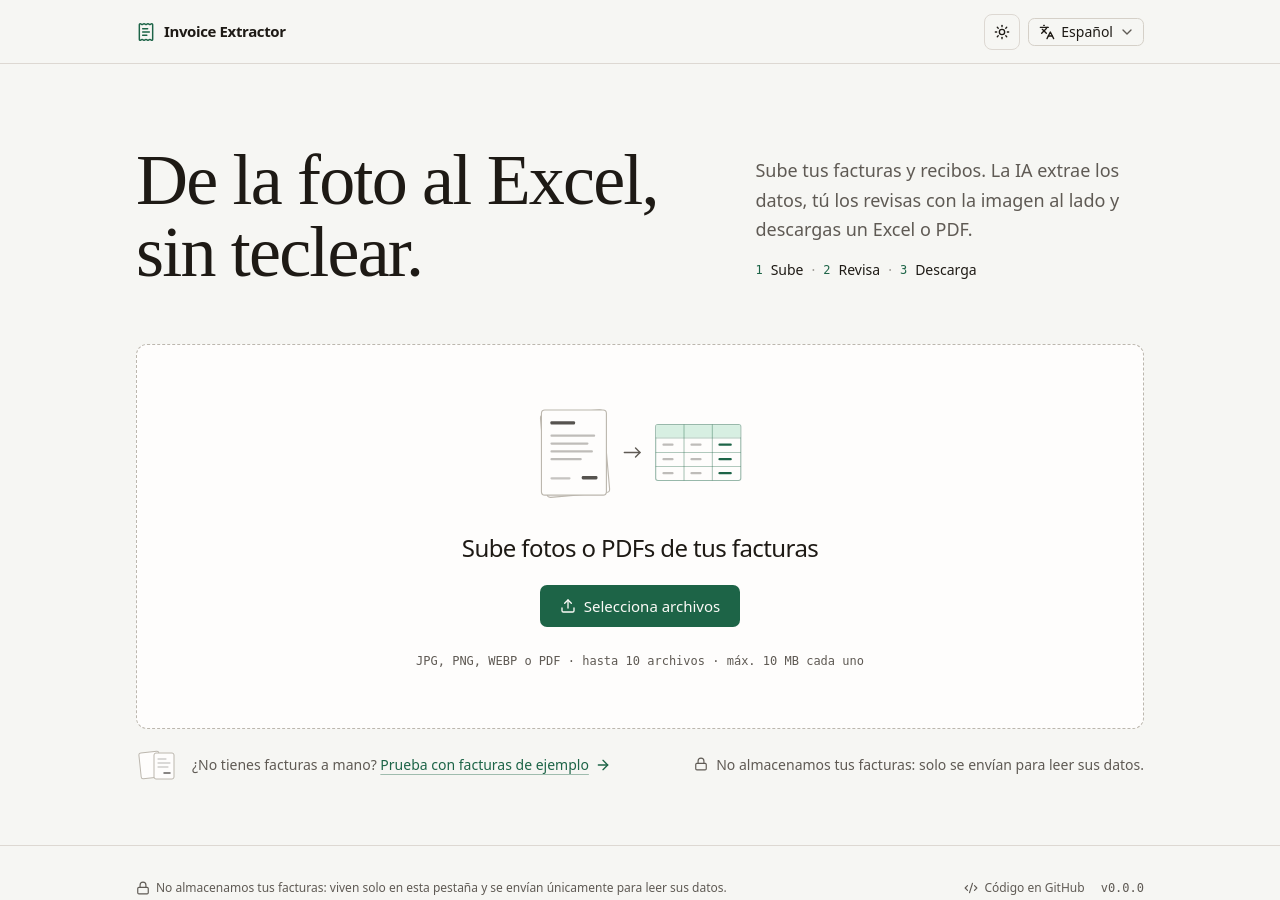
Test: UploadPage › reports when the samples cannot be loaded
Click the button "Prueba con facturas de ejemplo" at (496,764), box [380,754,611,774]
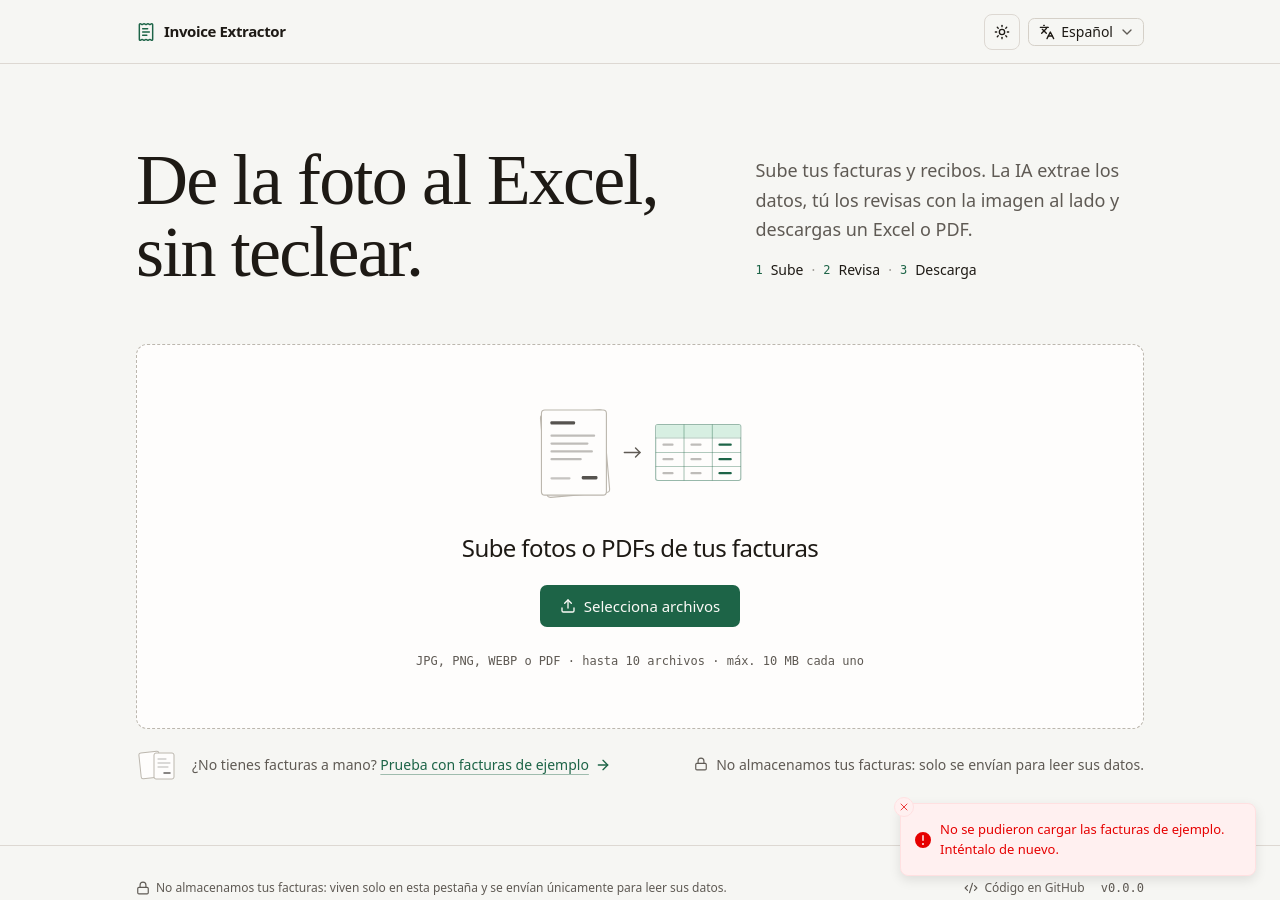
Now the text "No se pudieron cargar las facturas de ejemplo. Inténtalo de nuevo." is shown, box [940,820,1239,859]
